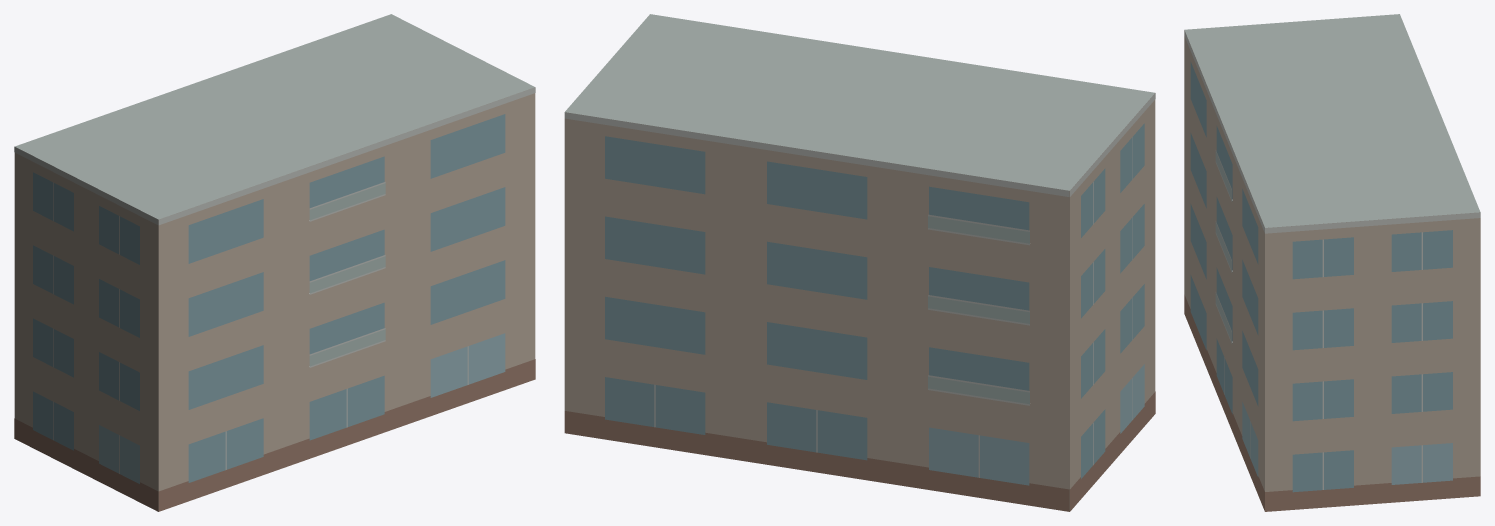
The model's file is survey-upis-32463706.glb.
3 renders of one model, left to right at view 1: azimuth 30°, elevation 25°; view 2: azimuth 150°, elevation 25°; view 3: azimuth 270°, elevation 25°, orthographic. The views are drawn at different scales.
Parts seen in each view (by area): view 1: survey-upis-32463706.tmp; view 2: survey-upis-32463706.tmp; view 3: survey-upis-32463706.tmp.
Boxes of the visible parts, box(x1,y1,x2,y2) form: survey-upis-32463706.tmp: box(14, 14, 535, 511); survey-upis-32463706.tmp: box(564, 14, 1155, 511); survey-upis-32463706.tmp: box(1184, 14, 1480, 511).
Size of the model in its own units: 19.73 by 12.2 by 11.55.
